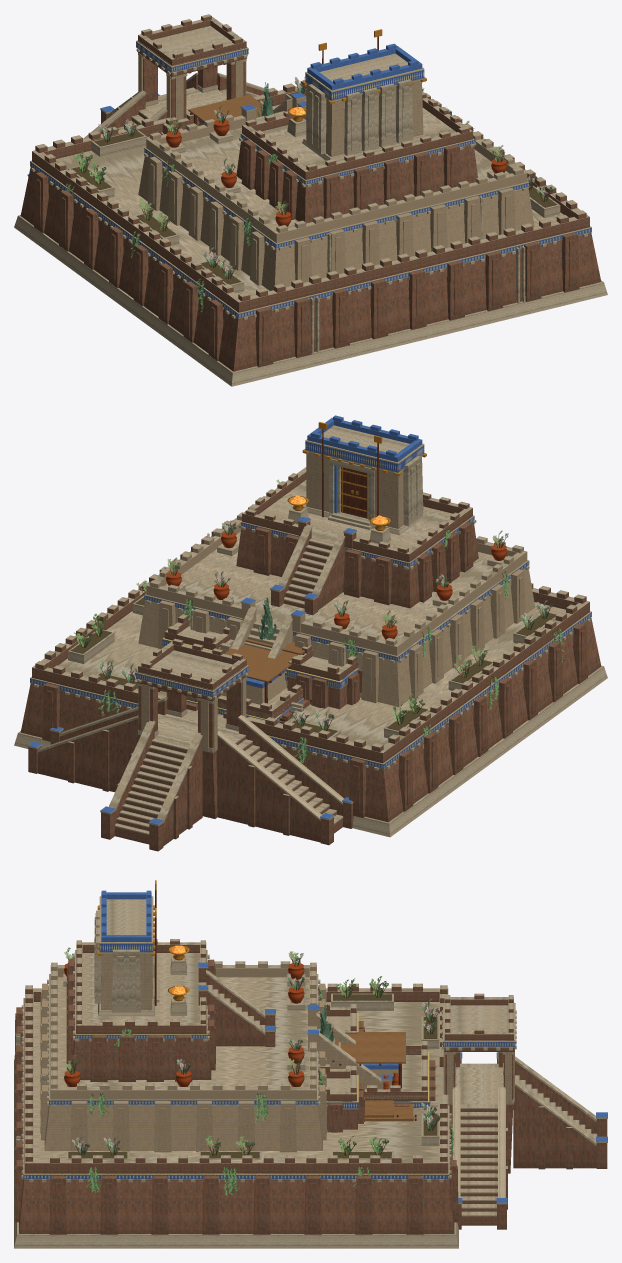
File: temenos_hero_kit.glb
The picture shows the model from 3 angles, top to bottom: view 1: azimuth 30°, elevation 25°; view 2: azimuth 150°, elevation 25°; view 3: azimuth 270°, elevation 25°; orthographic projection. The views are drawn at different scales.
Parts seen in each view (by area): view 1: hero_ziggurat_ur_LOD0, hero_temple_annex_02_LOD0; view 2: hero_ziggurat_ur_LOD0, hero_temenos_gate_LOD0, hero_temple_annex_01_LOD0, hero_temple_annex_02_LOD0; view 3: hero_ziggurat_ur_LOD0, hero_temple_annex_01_LOD0, hero_temenos_gate_LOD0, hero_temple_annex_02_LOD0.
Part boxes in pixels (left/top/right/bottom): hero_ziggurat_ur_LOD0: left=14, top=14, right=607, bottom=386; hero_temple_annex_02_LOD0: left=162, top=94, right=266, bottom=133; hero_ziggurat_ur_LOD0: left=14, top=415, right=607, bottom=851; hero_temenos_gate_LOD0: left=162, top=614, right=362, bottom=709; hero_temple_annex_01_LOD0: left=186, top=639, right=311, bottom=722; hero_temple_annex_02_LOD0: left=158, top=644, right=311, bottom=723; hero_ziggurat_ur_LOD0: left=14, top=880, right=607, bottom=1248; hero_temple_annex_01_LOD0: left=332, top=1040, right=436, bottom=1117; hero_temenos_gate_LOD0: left=318, top=1002, right=364, bottom=1132; hero_temple_annex_02_LOD0: left=339, top=1032, right=428, bottom=1121.
Size of what is drawn, in the model's own units: 22.5 by 14.71 by 30.09.
Materials: 3 (2 with a texture image).
